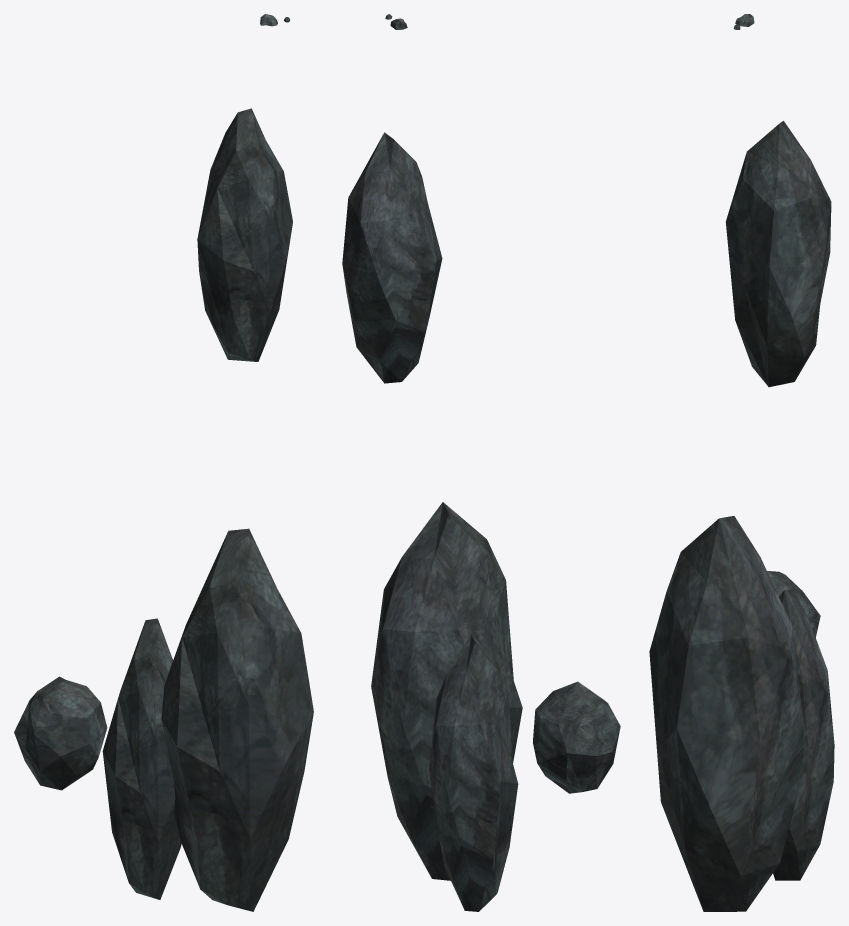
The model's file is object_rubble41.fbx.
3 views of the same model, side by side, from view 1: azimuth 30°, elevation 25°; view 2: azimuth 150°, elevation 25°; view 3: azimuth 270°, elevation 25° (orthographic). The views are drawn at different scales.
Visible parts, largest first — view 1: obj1.026; view 2: obj1.026; view 3: obj1.026.
Boxes of the visible parts, x1=… form: obj1.026: x1=14, y1=14, x2=313, y2=911; obj1.026: x1=342, y1=14, x2=620, y2=911; obj1.026: x1=649, y1=14, x2=834, y2=911.
Bounding box in the file's own units: 17.61 × 55.13 × 10.11.
